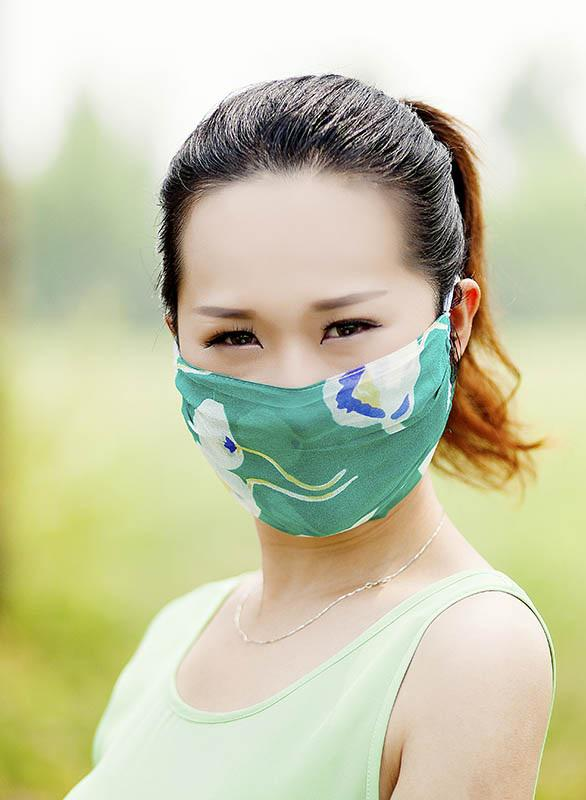OK: (177, 262, 464, 533)
